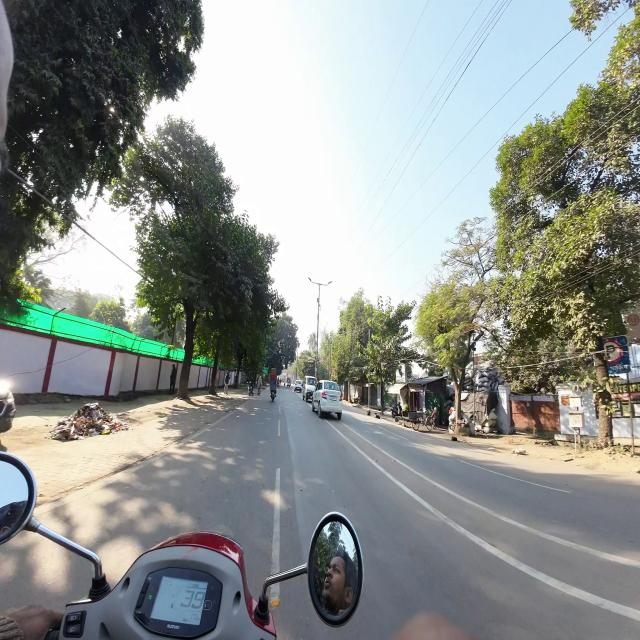Garbage: (74, 400, 110, 439), (56, 416, 74, 439), (110, 414, 127, 432)
